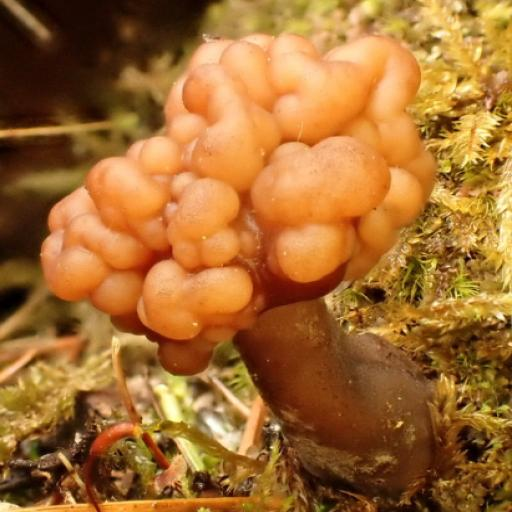False Morel: (47, 31, 452, 477)
